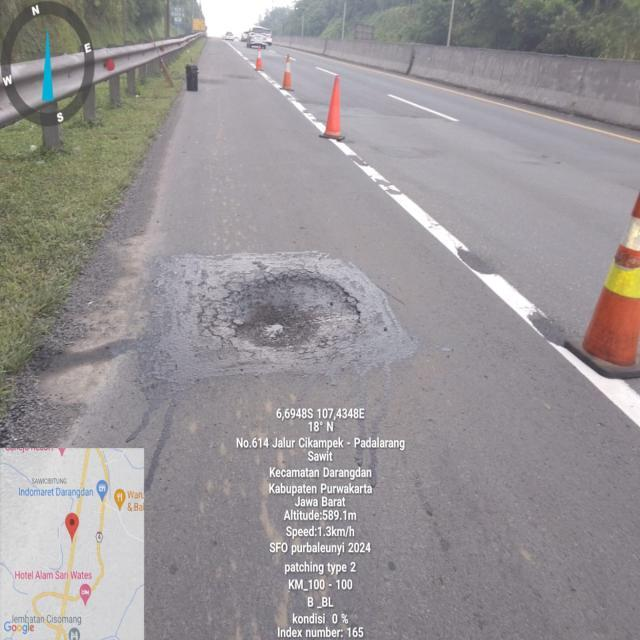Buraco: (194, 259, 365, 369)
